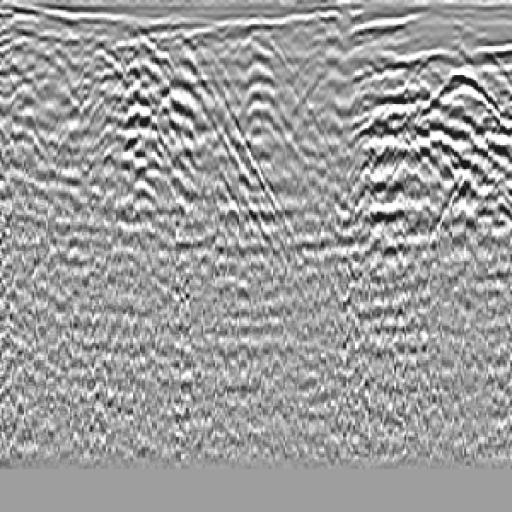non-metallic: (76, 31, 298, 271), (342, 41, 484, 220)
